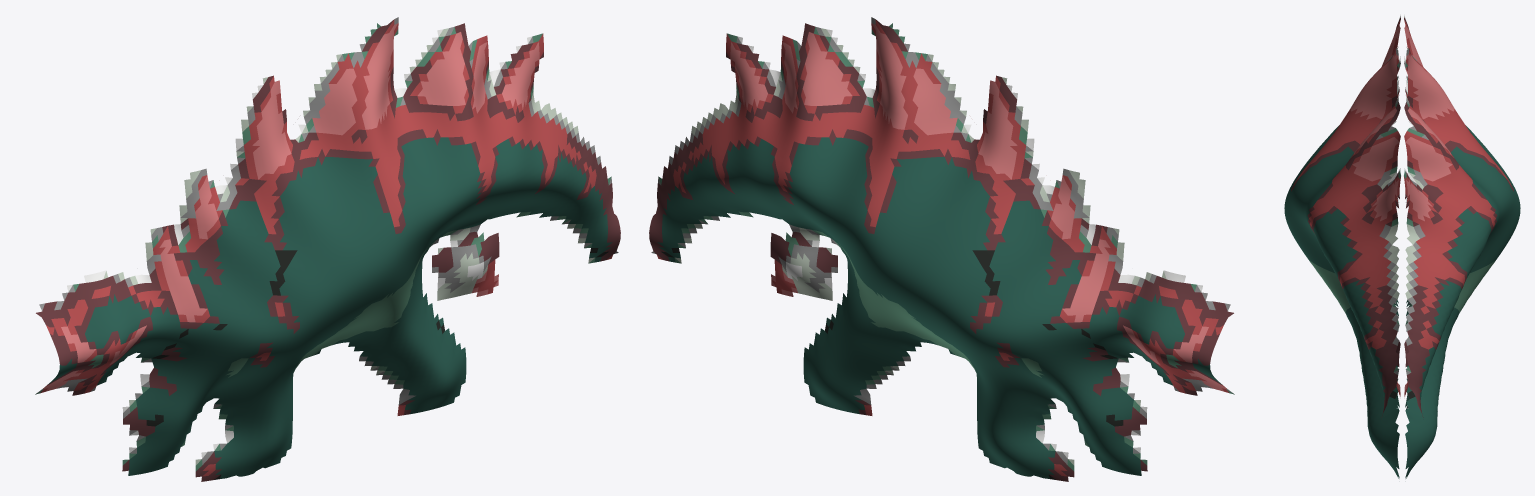
File: dracoelido.glb
3 views of the same model, side by side, from view 1: azimuth 30°, elevation 25°; view 2: azimuth 150°, elevation 25°; view 3: azimuth 270°, elevation 25° (orthographic).
Parts seen in each view (by area): view 1: dracoelido; view 2: dracoelido; view 3: dracoelido.
Part boxes in pixels (x1,y1,x2,y2): dracoelido: (35,17,620,481); dracoelido: (649,17,1234,481); dracoelido: (1284,15,1520,478).
Bounding box in the file's own units: 835 × 571 × 290.
